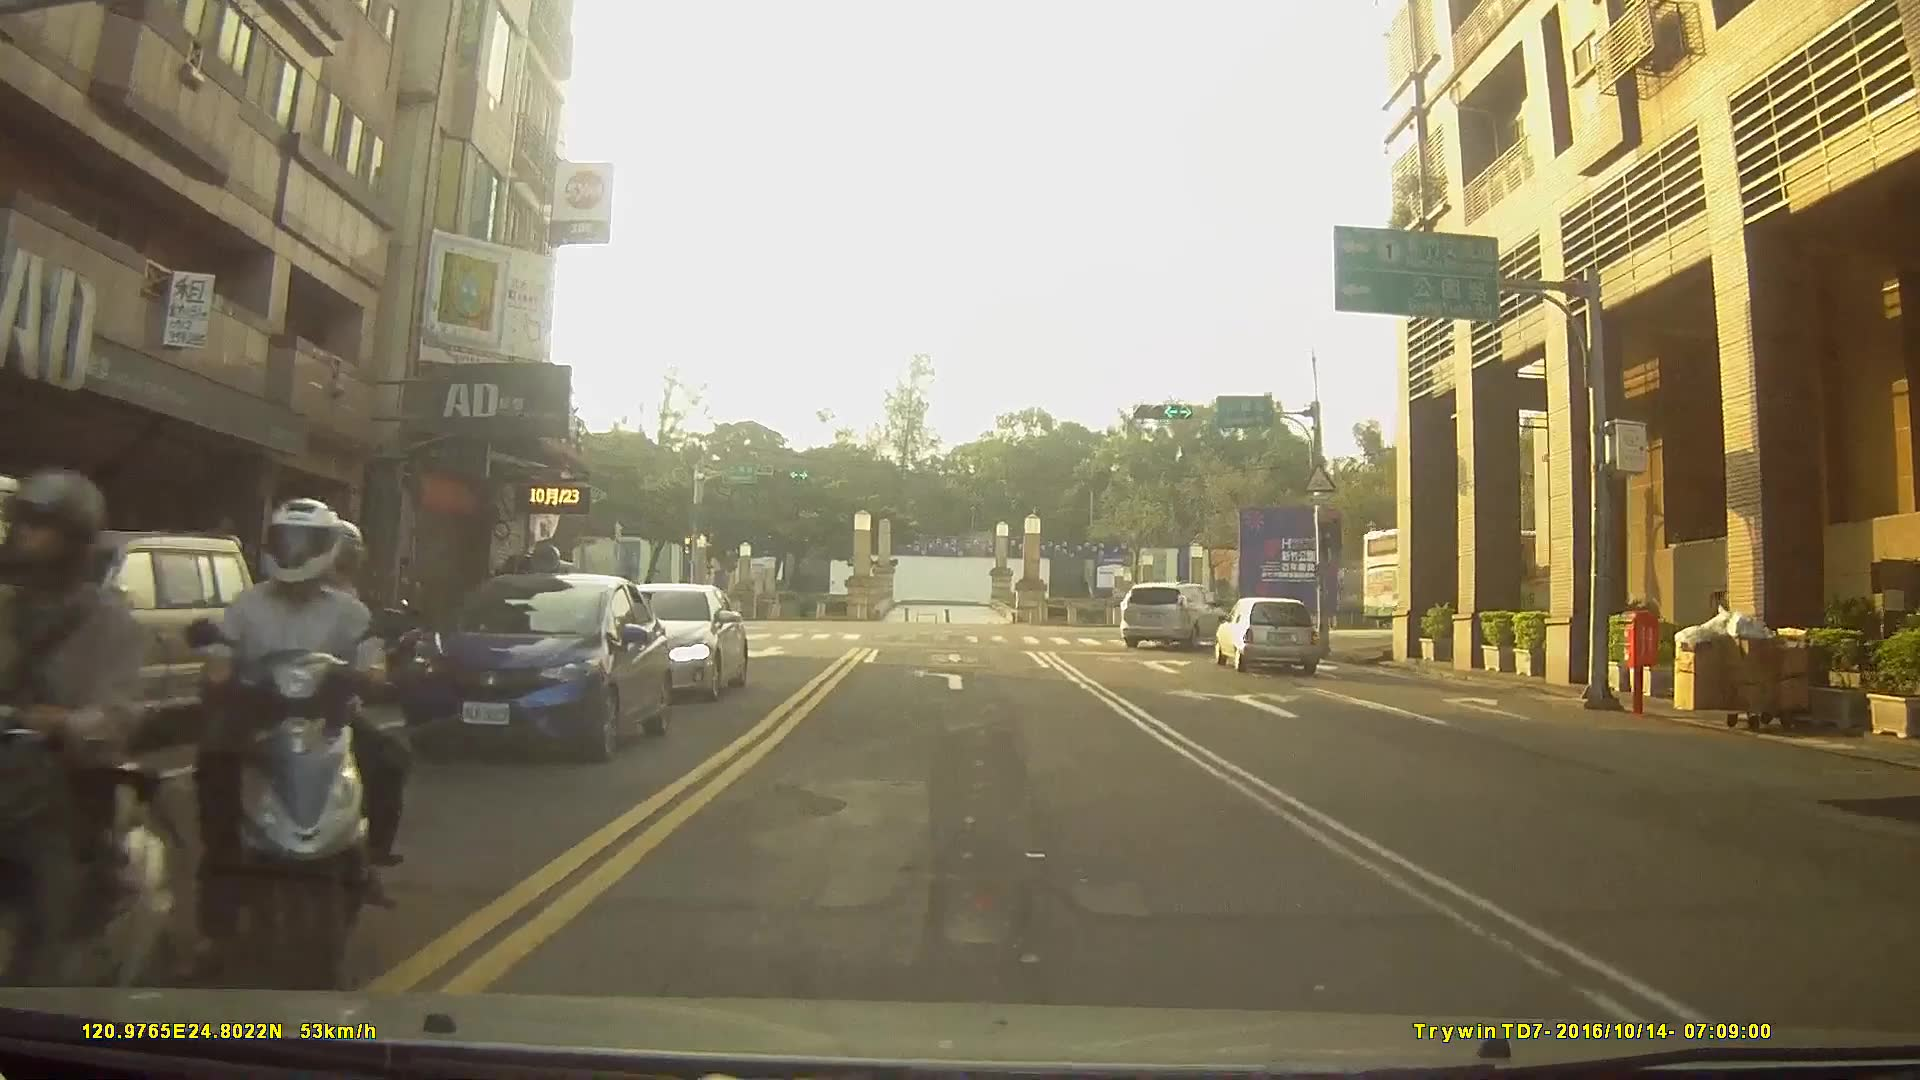rider: (170, 500, 404, 1008), (1, 470, 174, 1021)
vehicle: (1, 528, 263, 758), (397, 572, 669, 766), (576, 581, 744, 702), (1213, 593, 1318, 670), (1122, 580, 1230, 647)
